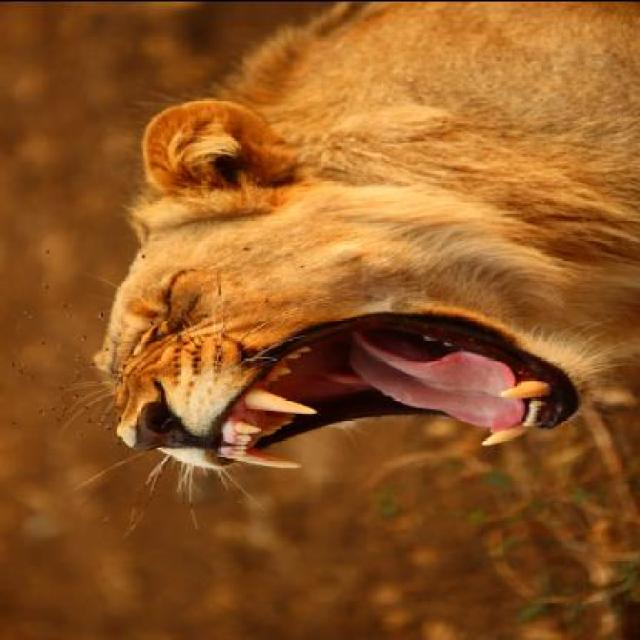Lion: (29, 6, 638, 560)
